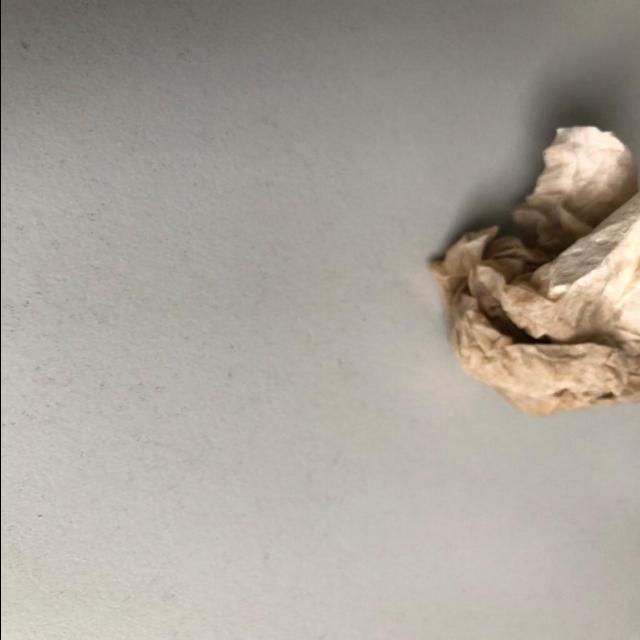organic waste: (425, 119, 640, 415)
